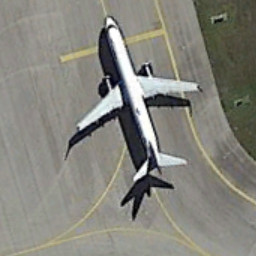Airplane: (62, 3, 212, 211)
